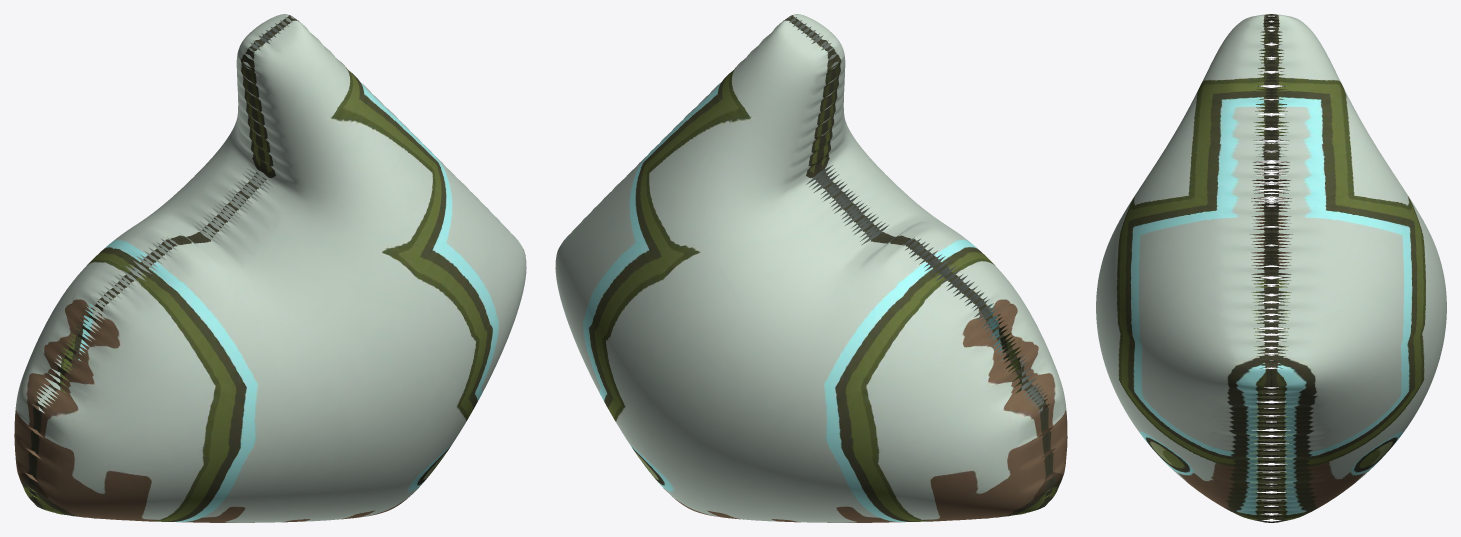
The model's file is broken_armor.glb.
The picture shows the model from 3 angles, left to right: view 1: azimuth 30°, elevation 25°; view 2: azimuth 150°, elevation 25°; view 3: azimuth 270°, elevation 25°; orthographic projection. The views are drawn at different scales.
Visible parts, largest first — view 1: broken_armor; view 2: broken_armor; view 3: broken_armor.
Part boxes in pixels (box(x1,y1,x2,y2)): broken_armor: box(14, 14, 526, 522); broken_armor: box(555, 14, 1067, 522); broken_armor: box(1096, 14, 1446, 522).
Bounding box in the file's own units: 0.9889 × 0.9901 × 0.667.
1 material, 1 textured.
